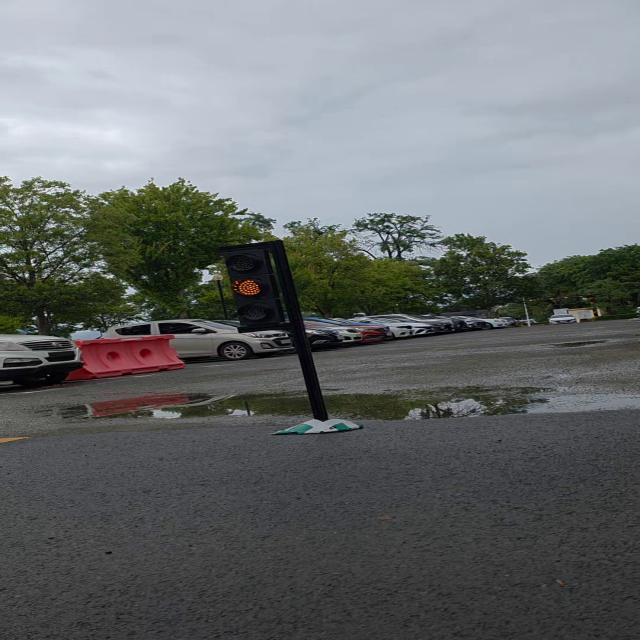yellow: (215, 238, 306, 339)
